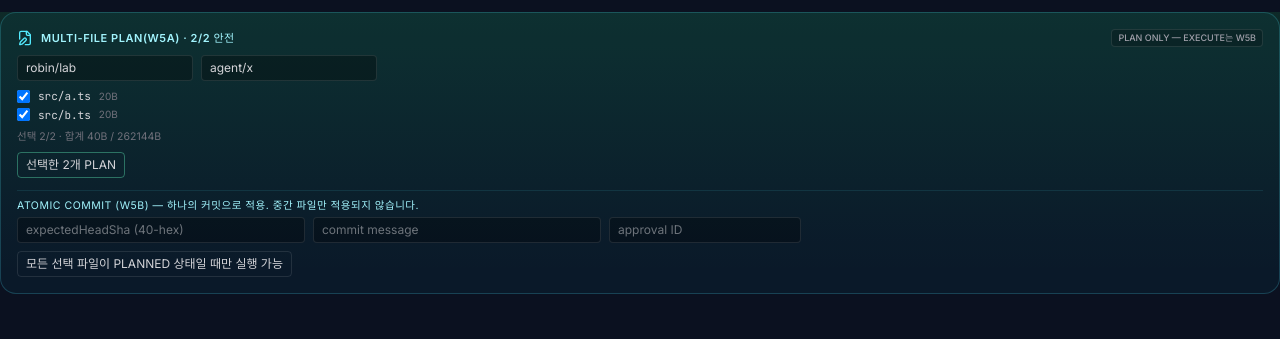
it: MultiFilePlanCard — W5a › (#W5b-1) plan 2개 완료 후 expectedHeadSha+message+approvalId 입력하면 Execute 활성화 → 클릭 시 atomic commit 호출 + observed UI
The width and height of the screenshot is (1280, 339).
Expected: the button with test id "publish-multifile-execute" is disabled, [17,251,292,277]
//  Plan 진행
Click the button with test id "publish-multifile-plan-all" at (71, 165), box [17,152,125,178]
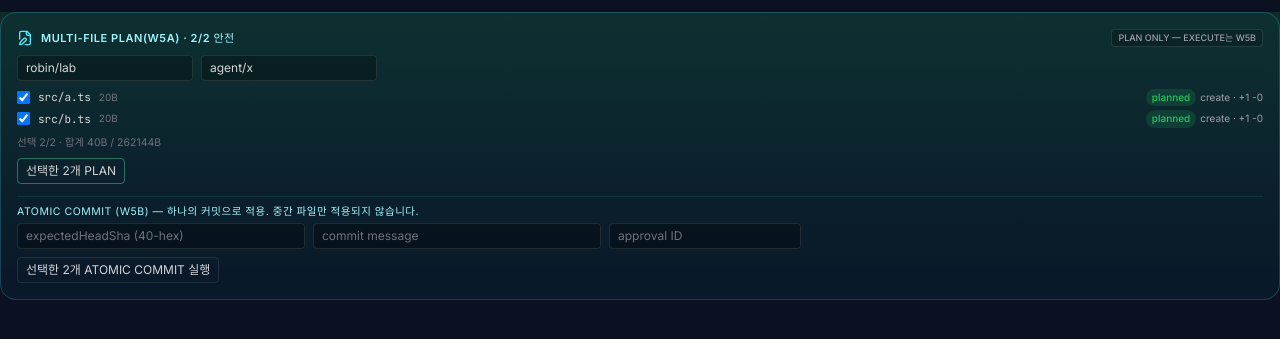
Expected: the button with test id "publish-multifile-execute" is disabled, [17,257,219,283]
Result: the list item with test id "publish-multifile-row-src/a.ts" has attribute data-state="planned" at [17,89,1263,106]
Result: the list item with test id "publish-multifile-row-src/b.ts" has attribute data-state="planned" at [17,110,1263,128]
// expectedHeadSha + message + approvalId 입력
Type "deadbeefdeadbeefdeadbeefdeadbeefdeadbeef" into the field named "multifile expectedHeadSha" at (161, 236), box [17,223,305,249]
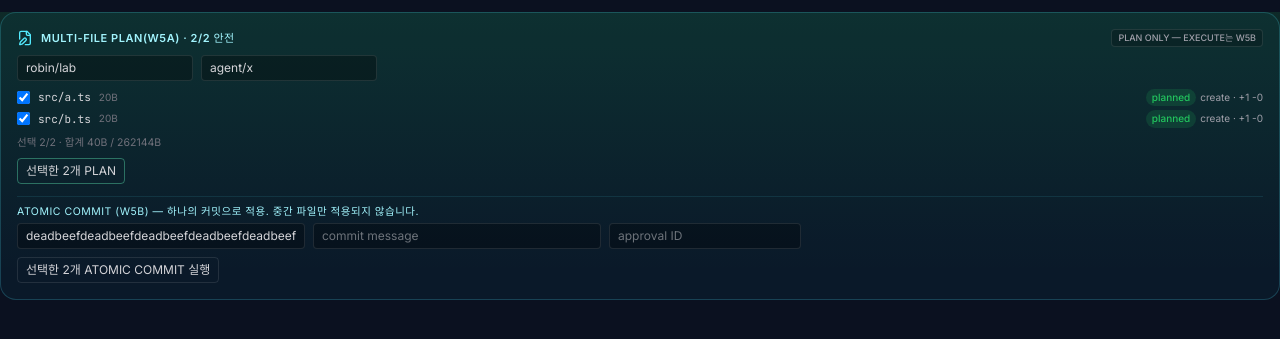
Type "scaffold: 2 files" into the field named "multifile commit message" at (457, 236), box [313,223,601,249]
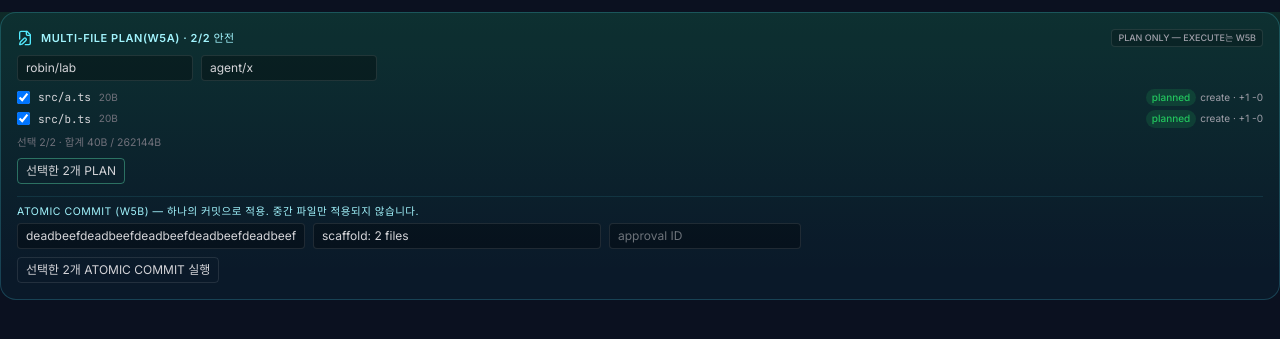
Type "appr-xyz" into the field named "multifile approval ID" at (705, 236), box [609,223,801,249]
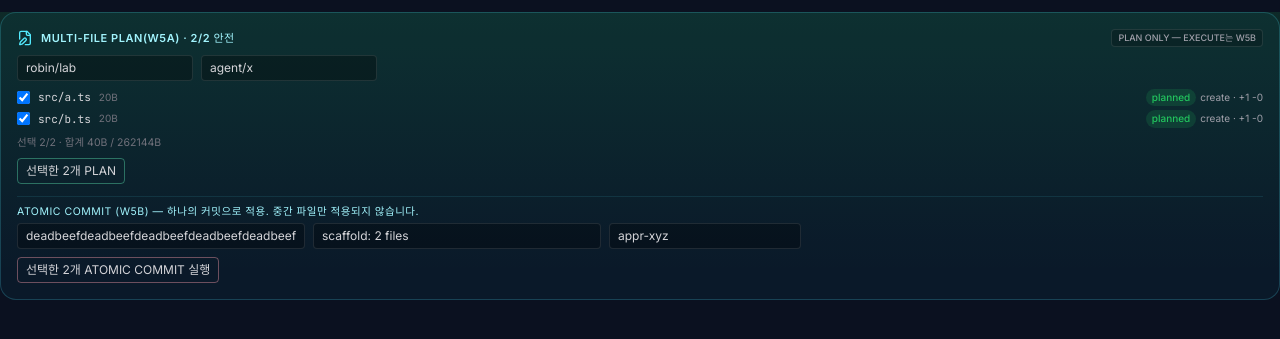
Result: the button with test id "publish-multifile-execute" is enabled
// Execute 클릭
Click the button with test id "publish-multifile-execute" at (118, 270), box [17,257,219,283]
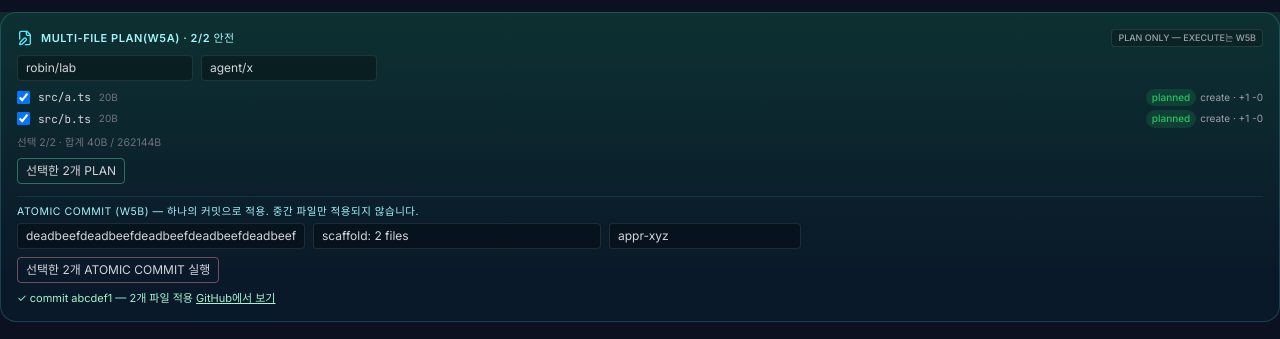
Expected: the text "src/a.ts" is shown, [38,90,91,105]
Result: the element with test id "publish-multifile-execute-observed" shows "abcdef1" at [71,291,112,305]
Result: the element with test id "publish-multifile-execute-observed" shows "2개 파일 적용" at [17,291,276,305]
